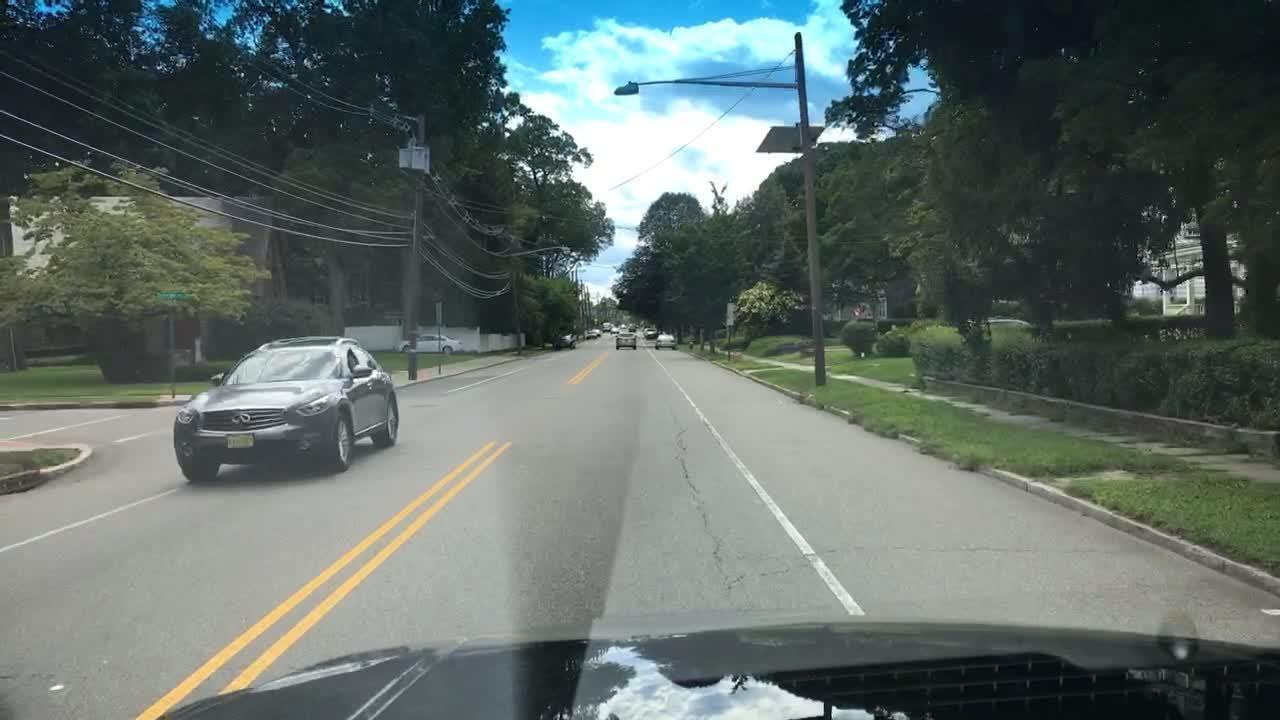Infiniti: (230, 410, 251, 430)
